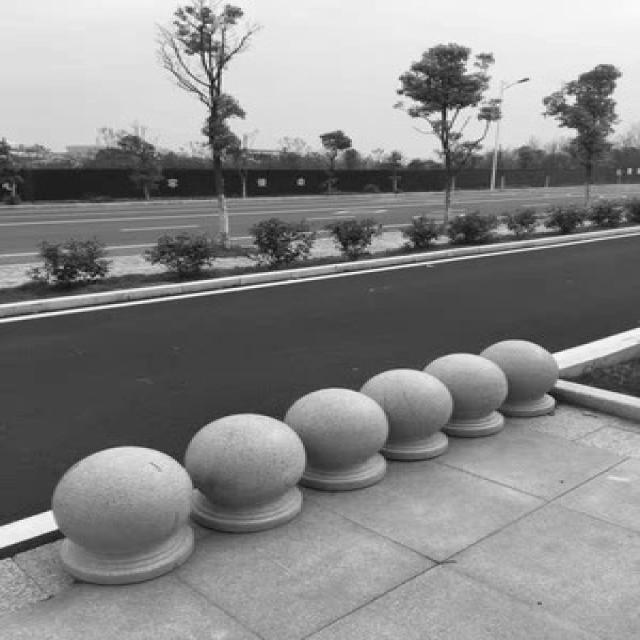spherical_roadblock: (51, 443, 194, 582), (186, 413, 307, 531), (286, 386, 388, 491), (356, 368, 454, 459), (424, 352, 506, 437), (476, 338, 554, 418)
